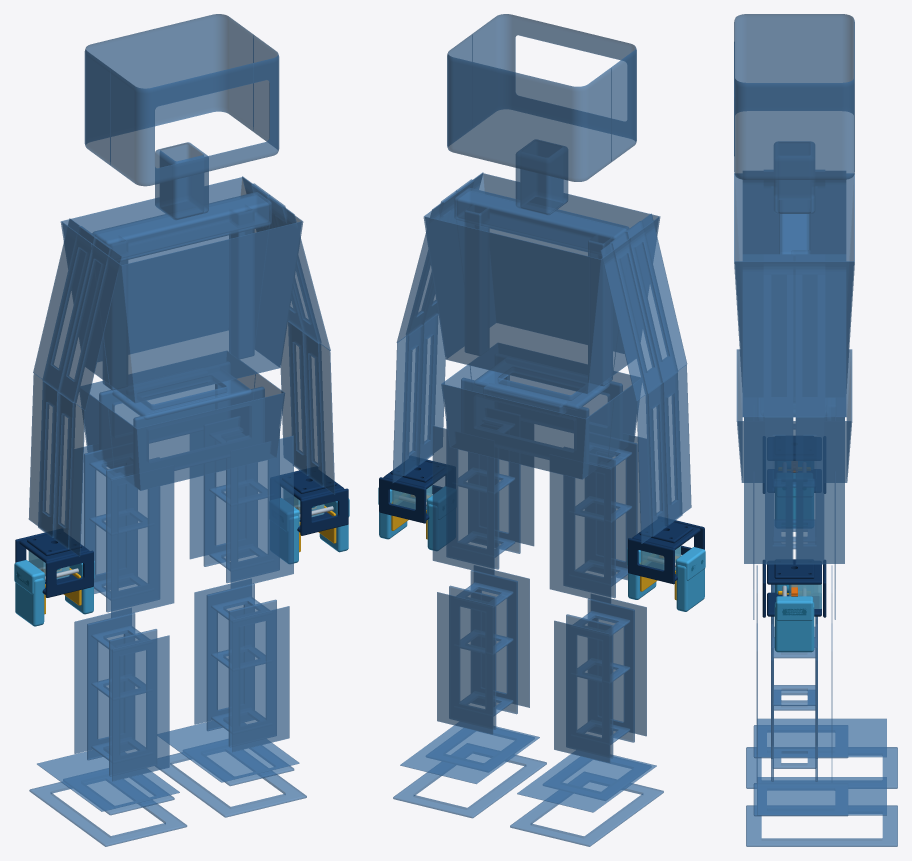
The model's file is HR-30_detailed_hands_installed_open_candidate.glb.
3 views of the same model, side by side, from view 1: azimuth 30°, elevation 25°; view 2: azimuth 150°, elevation 25°; view 3: azimuth 270°, elevation 25° (orthographic). The views are drawn at different scales.
Visible parts, largest first — view 1: HR30_MODULAR_BODY, R_FINGER_NEGATIVE, L_PALM_FRONT_PLATE, R_PALM_FRONT_PLATE, L_FINGER_NEGATIVE; view 2: HR30_MODULAR_BODY, R_FINGER_NEGATIVE, L_PALM_REAR_PLATE, R_PALM_REAR_PLATE, L_FINGER_NEGATIVE; view 3: HR30_MODULAR_BODY, L_FINGER_POSITIVE, R_FINGER_POSITIVE, L_WRIST_MOUNT_PLATE, L_PALM_TOP_BRIDGE, L_ACTUATOR_VENDOR_CANDIDATE, L_PALM_BOTTOM_BRIDGE.
Part boxes in pixels (x1,y1,x2,y2): HR30_MODULAR_BODY: (28,14,335,846); R_FINGER_NEGATIVE: (14,560,44,626); L_PALM_FRONT_PLATE: (300,488,348,535); R_PALM_FRONT_PLATE: (45,550,93,597); L_FINGER_NEGATIVE: (280,498,299,563); HR30_MODULAR_BODY: (392,14,691,846); R_FINGER_NEGATIVE: (676,547,705,611); L_PALM_REAR_PLATE: (379,477,426,523); R_PALM_REAR_PLATE: (628,538,674,584); L_FINGER_NEGATIVE: (427,486,446,550); HR30_MODULAR_BODY: (734,14,897,846); L_FINGER_POSITIVE: (774,596,814,652); R_FINGER_POSITIVE: (775,473,813,528); L_WRIST_MOUNT_PLATE: (774,559,814,578); L_PALM_TOP_BRIDGE: (767,564,821,584); L_ACTUATOR_VENDOR_CANDIDATE: (789,584,821,608); L_PALM_BOTTOM_BRIDGE: (767,592,821,616).
Size of the model in its own units: 332 by 752 by 149.
